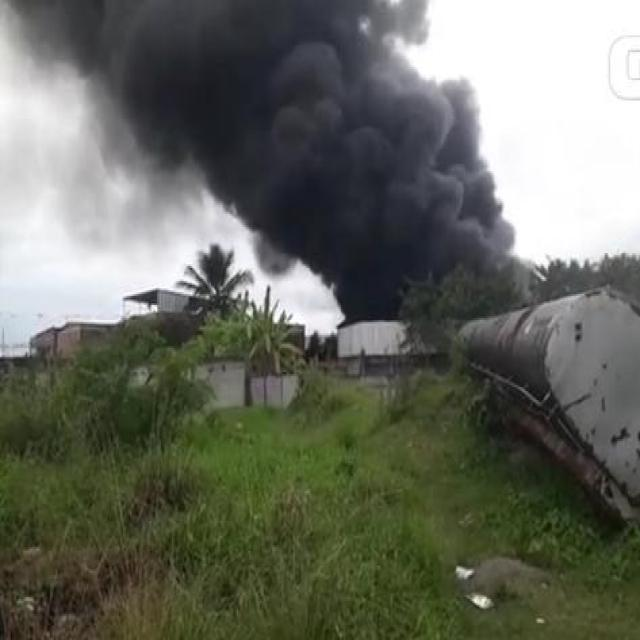Smoke: (28, 7, 529, 315)
